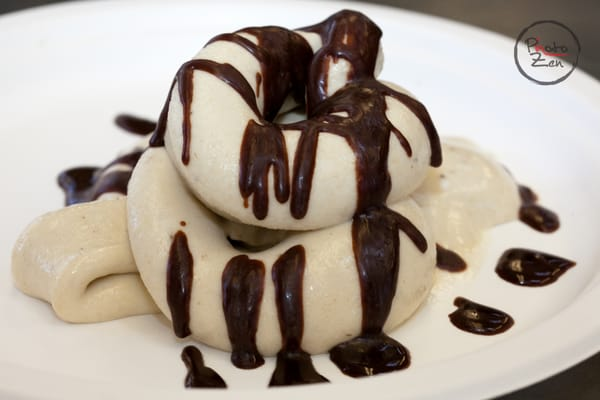pasta: (12, 9, 493, 375), (9, 191, 168, 324)
